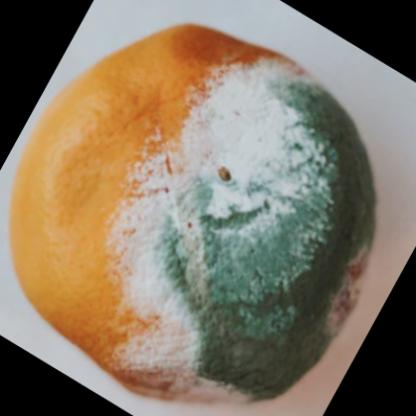rotten: (9, 24, 376, 399)
